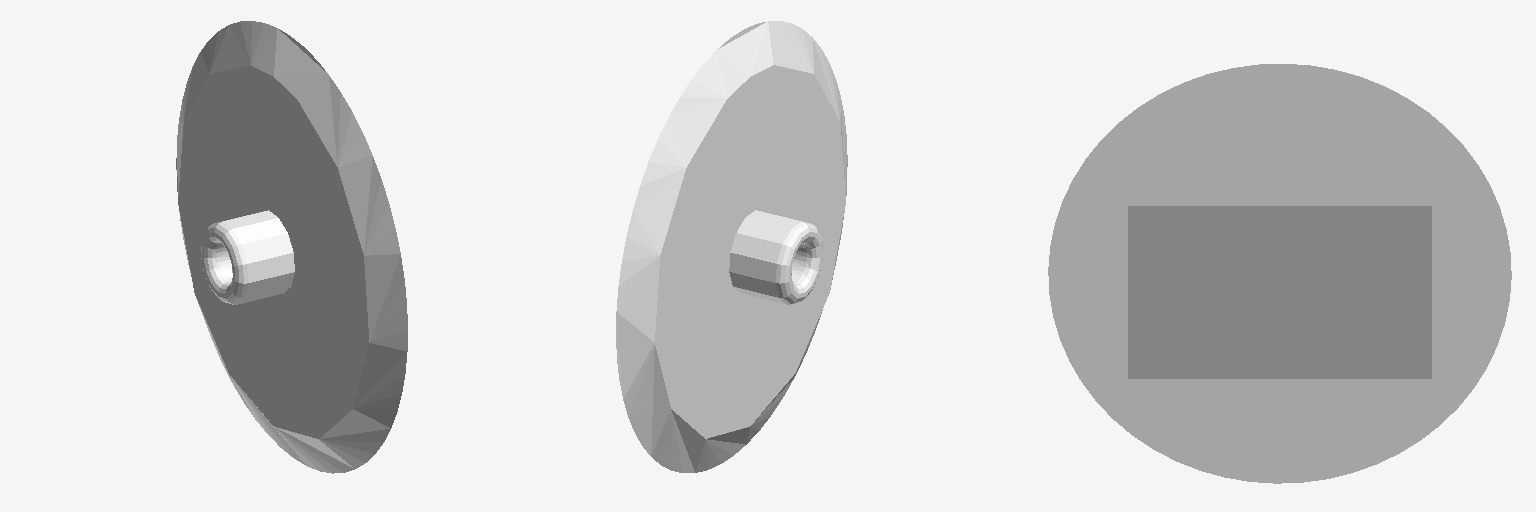
File: Radkappe-hinten-links2.obj
3 views of the same model, side by side, from view 1: azimuth 30°, elevation 25°; view 2: azimuth 150°, elevation 25°; view 3: azimuth 270°, elevation 25° (orthographic).
Visible parts, largest first — view 1: Radkappe_-_10_mm.003_Radkappe_-_10_mm.004; view 2: Radkappe_-_10_mm.003_Radkappe_-_10_mm.004; view 3: Radkappe_-_10_mm.003_Radkappe_-_10_mm.004, FAU.
Boxes of the visible parts, x1=… form: Radkappe_-_10_mm.003_Radkappe_-_10_mm.004: x1=176, y1=21, x2=407, y2=473; Radkappe_-_10_mm.003_Radkappe_-_10_mm.004: x1=616, y1=21, x2=847, y2=472; Radkappe_-_10_mm.003_Radkappe_-_10_mm.004: x1=1048, y1=64, x2=1511, y2=483; FAU: x1=1128, y1=206, x2=1431, y2=378.
Size of the model in its own units: 0.0569 by 0.3019 by 0.3019.